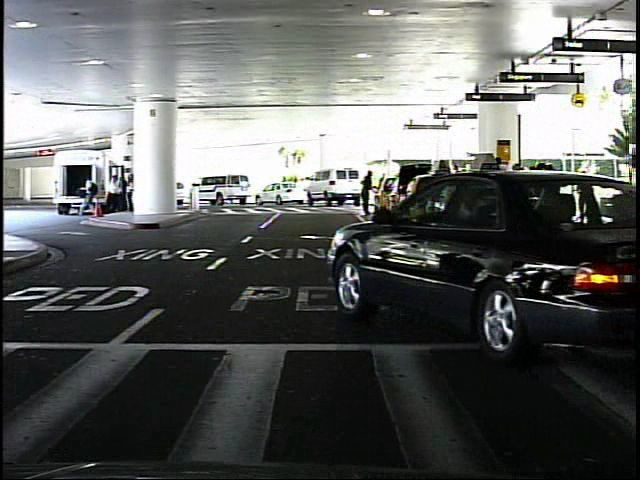person: (359, 164, 383, 220), (578, 165, 597, 222)
